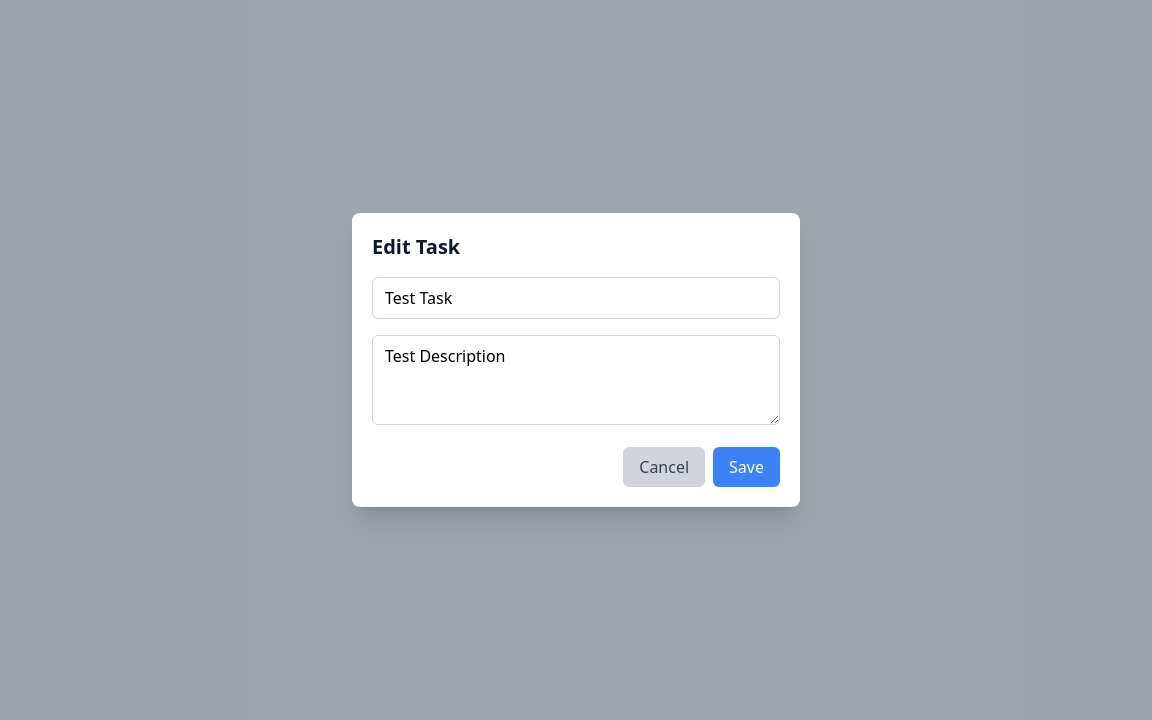
Test case: EditTaskPopup › displays an error message when trying to save with empty description
Clear the text box showing "Test Description" at (576, 380), box x1=372 y1=335 x2=780 y2=425
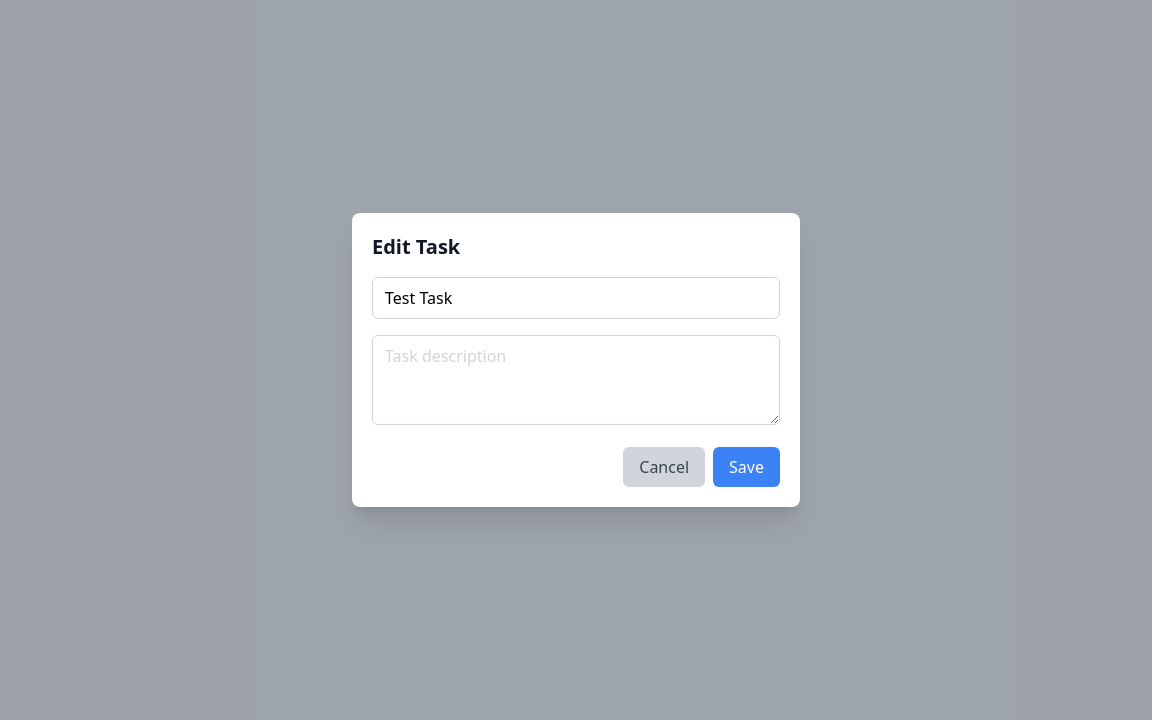
Click the button "Save" at (747, 467), box x1=713 y1=447 x2=780 y2=487
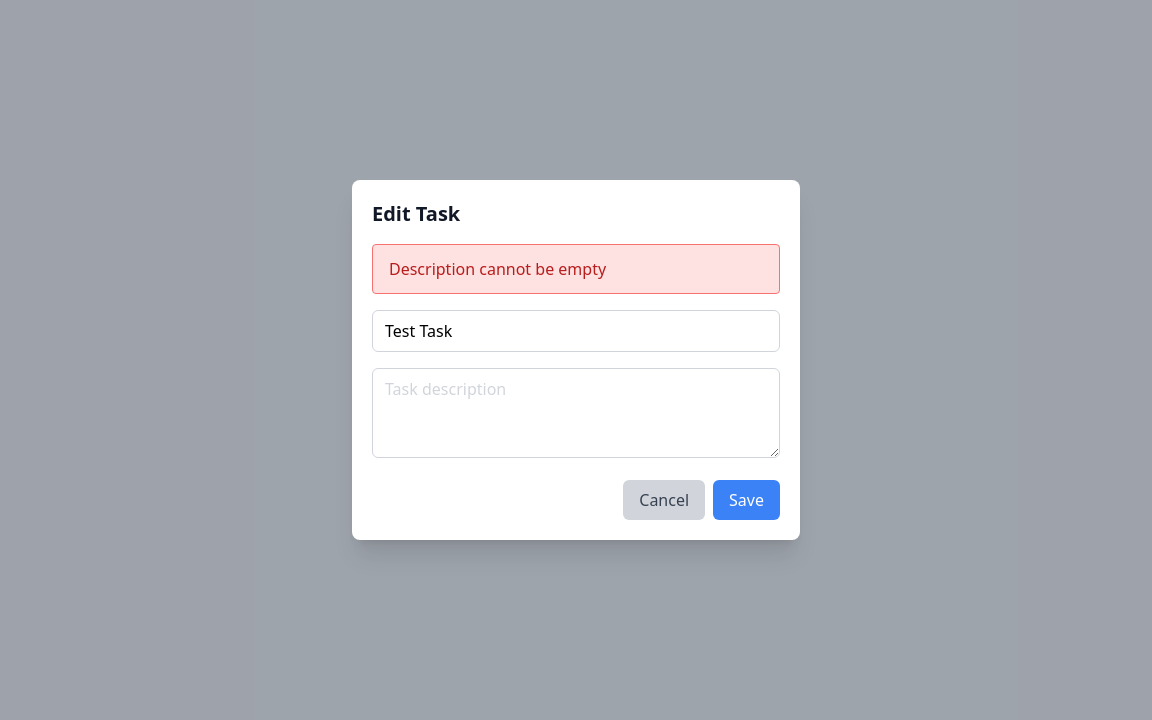
Now the text "Description cannot be empty" is shown, box x1=389 y1=258 x2=606 y2=280
